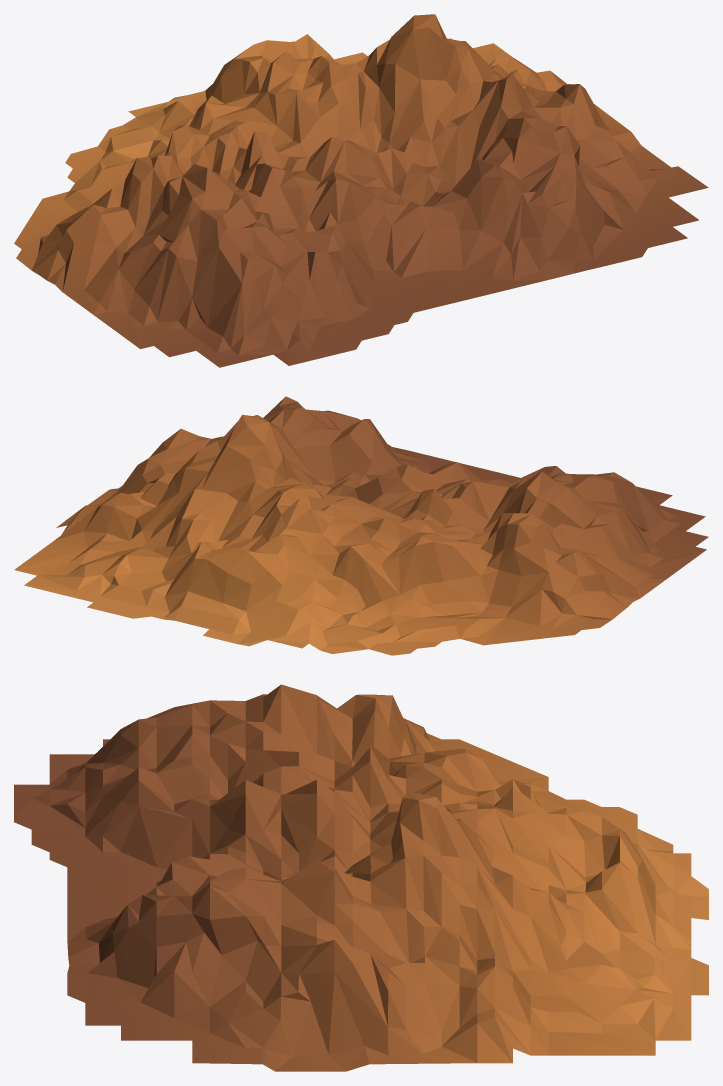
Rendered from NavalBattleMesh.fbx.
3 renders of one model, top to bottom at view 1: azimuth 30°, elevation 25°; view 2: azimuth 150°, elevation 25°; view 3: azimuth 270°, elevation 25°, orthographic. The views are drawn at different scales.
Visible parts, largest first — view 1: NavalBattleMesh; view 2: NavalBattleMesh; view 3: NavalBattleMesh.
Boxes of the visible parts, x1,y1,x2,y2 form: NavalBattleMesh: (14, 14, 708, 367); NavalBattleMesh: (14, 396, 708, 655); NavalBattleMesh: (14, 684, 708, 1071).
Bounding box in the file's own units: 38 × 9.27 × 33.68.
Materials: 1 (1 with a texture image).
